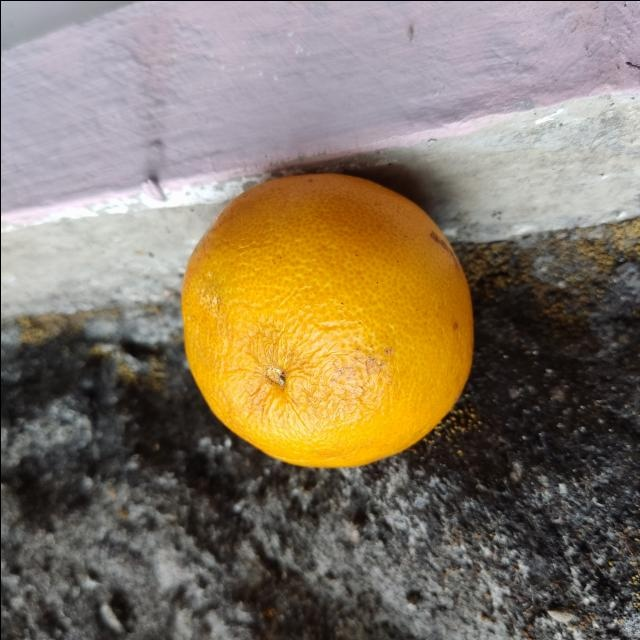agrume: (175, 170, 477, 470)
